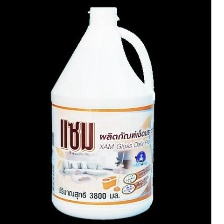cleaning_solution: (44, 4, 156, 221)
